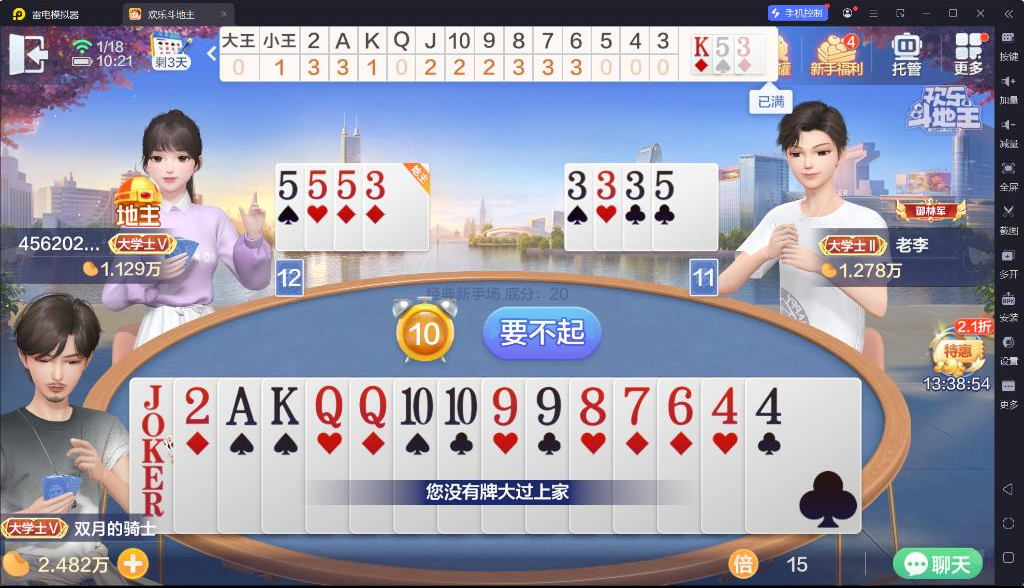A: (222, 384, 258, 428)
JOKER: (139, 381, 167, 470)
K: (268, 384, 301, 427), (693, 35, 711, 58)
Q: (357, 384, 389, 430), (312, 384, 343, 430)
eight: (577, 384, 607, 427)
five: (276, 169, 302, 201), (335, 169, 359, 201), (307, 166, 329, 200), (653, 169, 676, 201), (715, 35, 730, 58)
four: (707, 383, 740, 428), (753, 383, 785, 426)
nine: (487, 383, 519, 427), (532, 384, 563, 427)
seven: (619, 384, 653, 426)
six: (665, 383, 695, 427)
ten: (399, 384, 435, 427), (443, 384, 478, 427)
three: (565, 170, 589, 203), (624, 168, 646, 203), (364, 168, 386, 202), (596, 169, 618, 201), (736, 36, 751, 57)
two: (184, 383, 211, 428)
